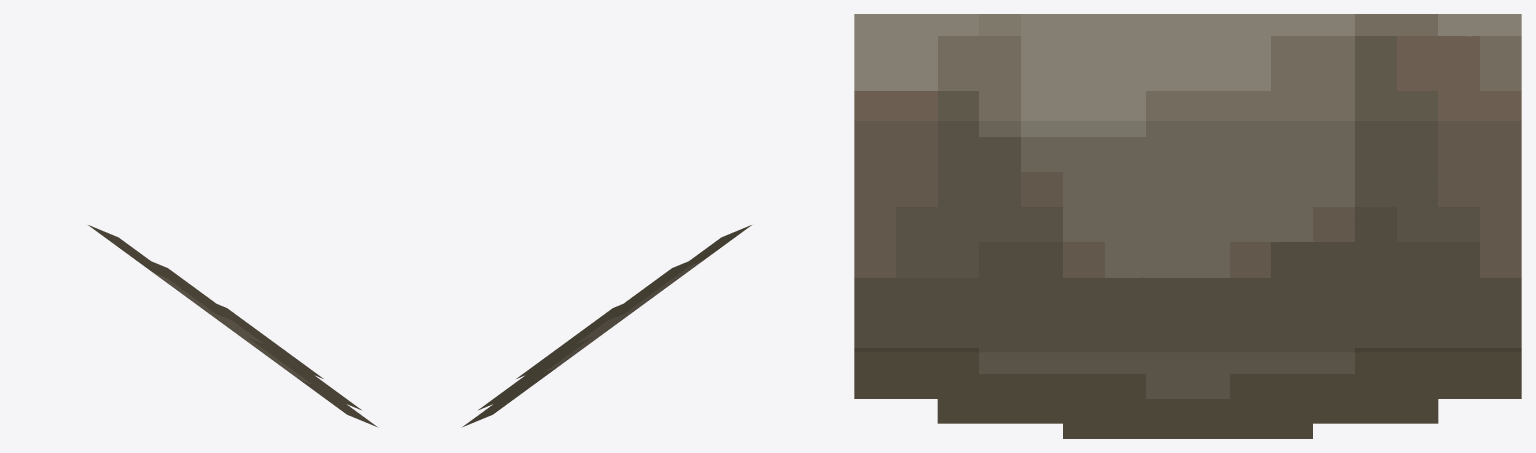
3 views of the same model, side by side, from view 1: azimuth 30°, elevation 25°; view 2: azimuth 150°, elevation 25°; view 3: azimuth 270°, elevation 25° (orthographic). The views are drawn at different scales.
Bounding box in the file's own units: 0.293 × 0.5662 × 1.
1 material, 1 textured.
